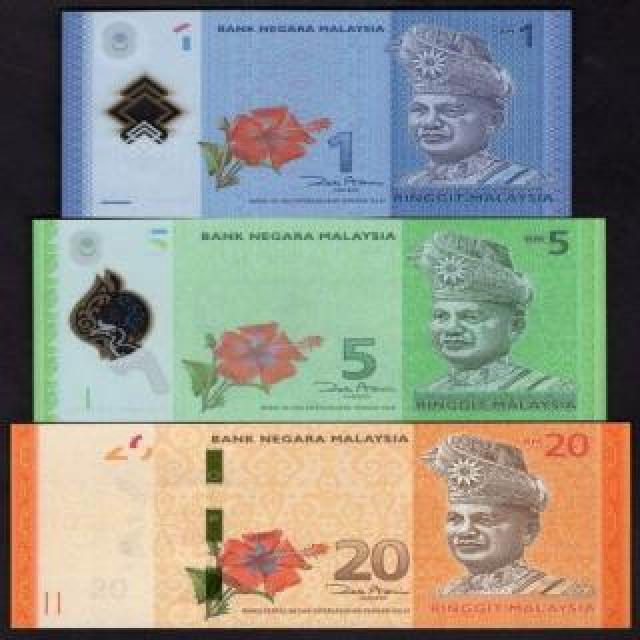1 Ringgit: (52, 4, 576, 213)
20 Ringgit: (16, 424, 624, 632)
5 Ringgit: (32, 218, 614, 423)
